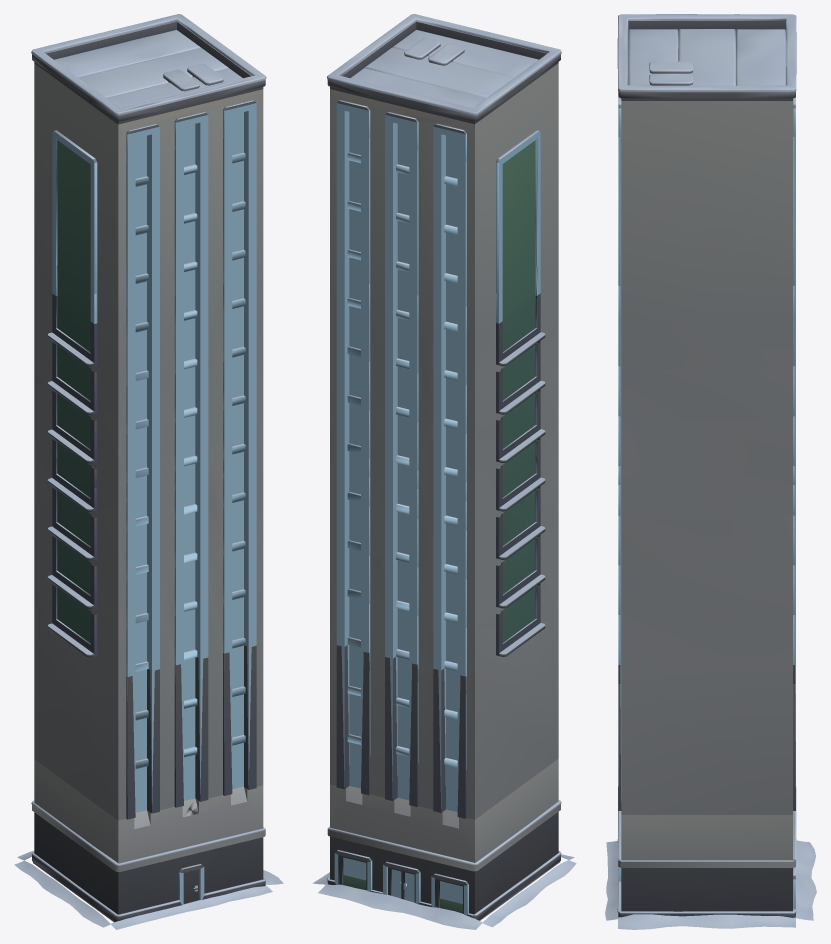
The model's file is tower_e.glb.
3 views of the same model, side by side, from view 1: azimuth 30°, elevation 25°; view 2: azimuth 150°, elevation 25°; view 3: azimuth 270°, elevation 25° (orthographic). The views are drawn at different scales.
Parts seen in each view (by area): view 1: Base, Shaft_1, Shaft_0, Shaft_2, Roof; view 2: Base, Shaft_1, Shaft_0, Shaft_2, Roof; view 3: Base, Shaft_0, Shaft_1, Shaft_2, Roof.
Boxes of the visible parts, x1,y1,x2,y2 form: Base: (14, 635, 283, 929); Shaft_1: (34, 247, 263, 502); Shaft_0: (34, 441, 263, 696); Shaft_2: (34, 102, 263, 308); Roof: (31, 14, 266, 163); Base: (313, 635, 576, 929); Shaft_1: (330, 247, 558, 501); Shaft_0: (330, 441, 558, 695); Shaft_2: (330, 102, 558, 308); Roof: (327, 14, 561, 162); Base: (605, 684, 816, 929); Shaft_0: (618, 485, 795, 687); Shaft_1: (618, 286, 795, 488); Shaft_2: (618, 137, 795, 289); Roof: (617, 14, 796, 140).
Size of what is drawn, in the model's own units: 15.38 by 63.68 by 14.68.
